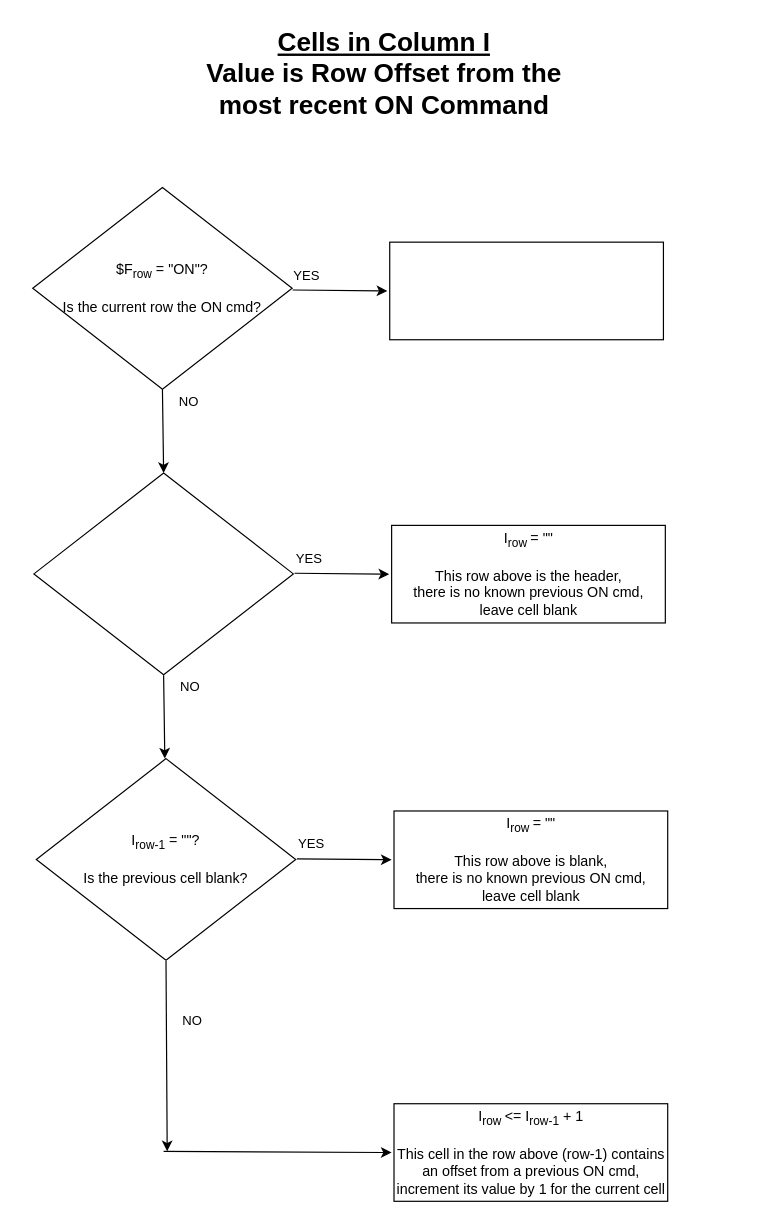
This 766x1222 diagram has some shape labels left out. Each missing label, with the centre of its shape:
I row = 0 This row is the ON cmd, so set offset to 0: [526,290]
I row-1 = "Offset ..."? Is the previous row the header?: [163,573]
